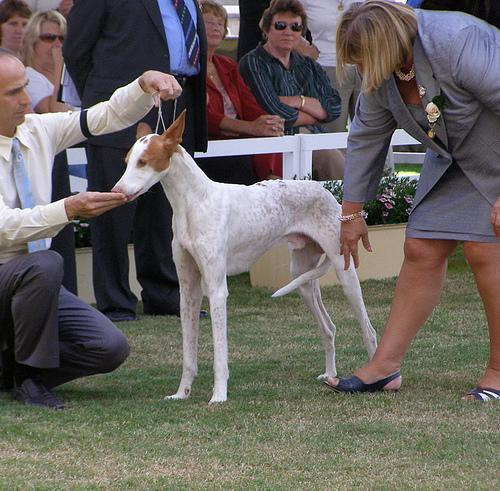Ibizan_hound: (110, 110, 378, 401)
